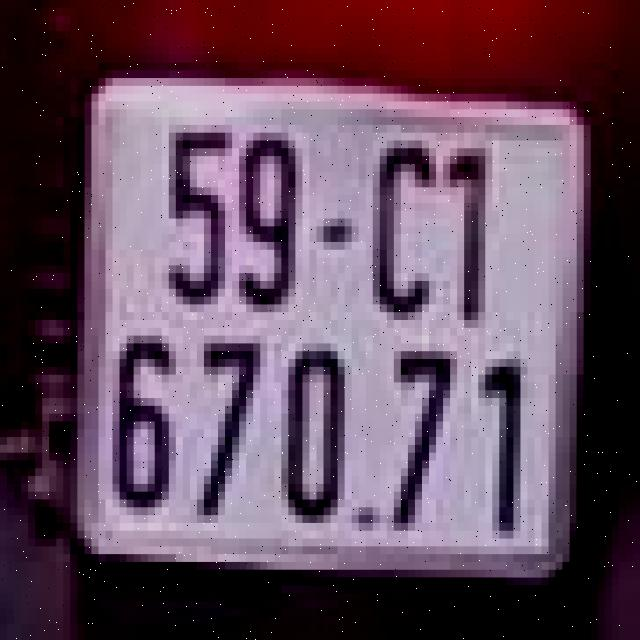0: (281, 328, 352, 546)
1: (468, 347, 524, 535), (443, 136, 492, 324)
5: (158, 117, 236, 328)
6: (112, 316, 183, 519)
7: (190, 332, 267, 534), (387, 336, 457, 546)
9: (229, 125, 306, 328)
C: (362, 117, 447, 336)
